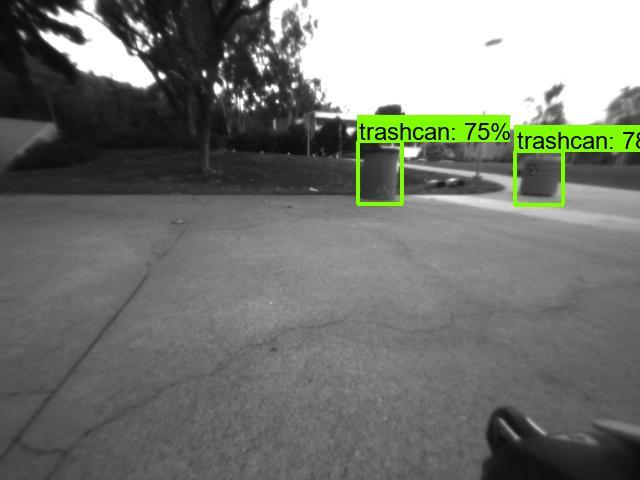trashcan: (523, 156, 567, 201), (363, 146, 397, 197)
